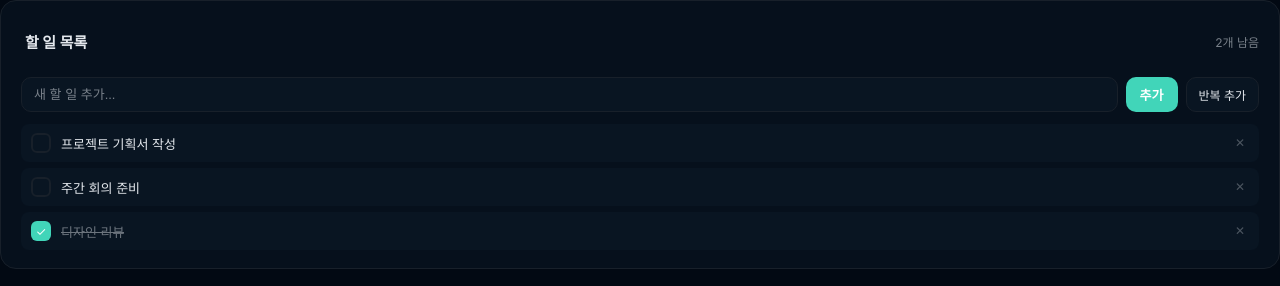
it: TodoWidget › removes a todo on delete button click
Click the button named "삭제" at (1240, 143), box [1231,132,1249,154]
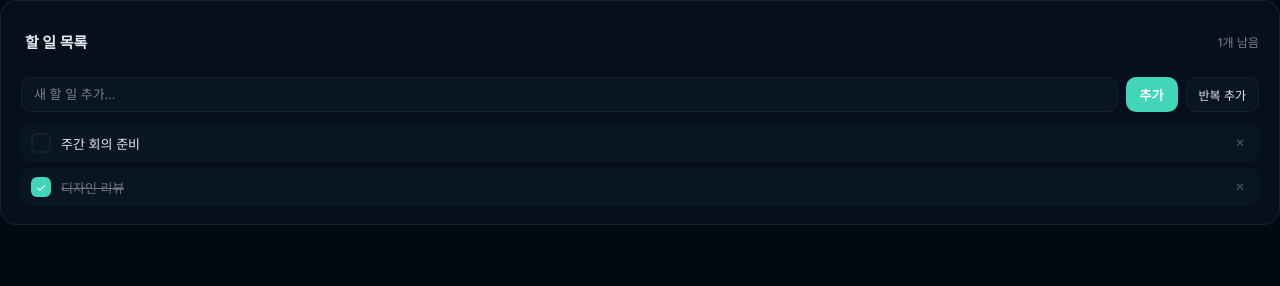
Result: the text "프로젝트 기획서 작성" is gone
